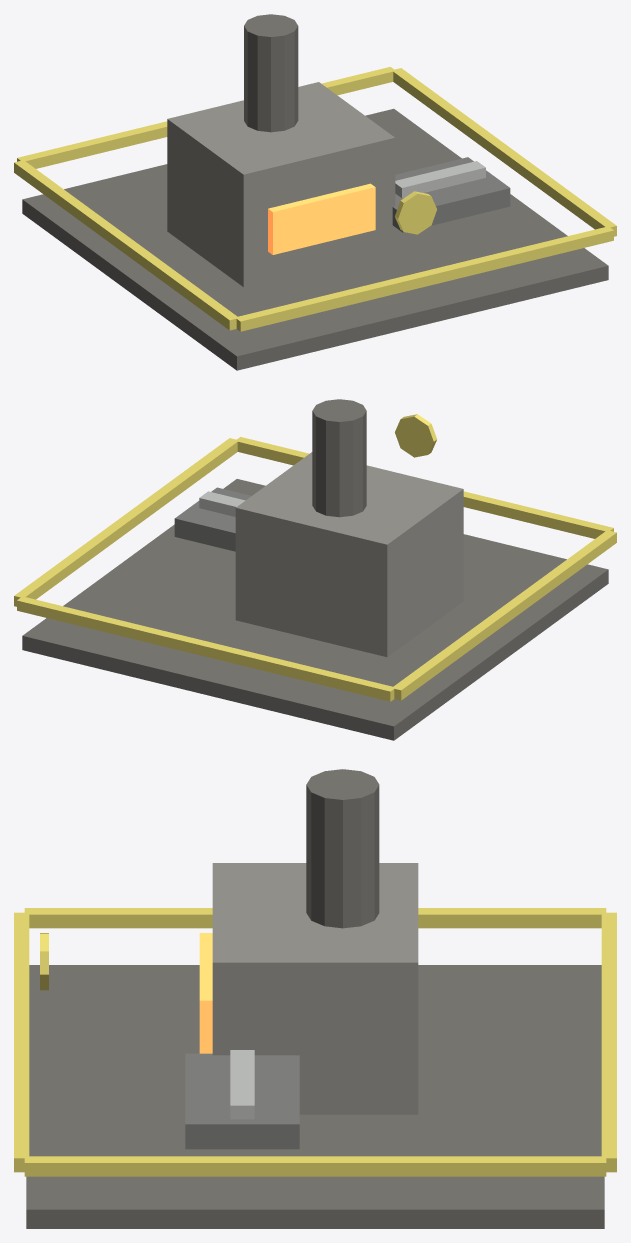
File: t7_smelter.glb
The picture shows the model from 3 angles, top to bottom: view 1: azimuth 30°, elevation 25°; view 2: azimuth 150°, elevation 25°; view 3: azimuth 270°, elevation 25°; orthographic projection. The views are drawn at different scales.
Visible parts, largest first — view 1: FootprintBase, FurnaceBody, Chimney, TierFrontTrim, HearthGlow, TierLeftTrim, TierRightTrim, TierBackTrim, IngotTray, TierEmblem, Ingot, Ingot.002; view 2: FootprintBase, FurnaceBody, Chimney, TierBackTrim, TierLeftTrim, TierRightTrim, TierFrontTrim, IngotTray, TierEmblem, Ingot.003; view 3: FootprintBase, FurnaceBody, TierRightTrim, Chimney, IngotTray, TierLeftTrim, TierFrontTrim, TierBackTrim, HearthGlow, Ingot.003.
Boxes of the visible parts, <box> form: FootprintBase: <box>22,108,608,370</box>; FurnaceBody: <box>167,82,395,287</box>; Chimney: <box>244,14,298,132</box>; TierFrontTrim: <box>235,226,613,331</box>; HearthGlow: <box>268,183,375,254</box>; TierLeftTrim: <box>14,160,237,330</box>; TierRightTrim: <box>393,68,616,236</box>; TierBackTrim: <box>17,67,395,168</box>; IngotTray: <box>392,157,510,232</box>; TierEmblem: <box>395,191,436,234</box>; Ingot: <box>395,174,433,198</box>; Ingot.002: <box>437,165,468,189</box>; FootprintBase: <box>22,479,608,740</box>; FurnaceBody: <box>235,452,463,657</box>; Chimney: <box>312,399,366,517</box>; TierBackTrim: <box>17,597,395,701</box>; TierLeftTrim: <box>393,531,616,700</box>; TierRightTrim: <box>14,438,237,606</box>; TierFrontTrim: <box>235,437,613,538</box>; IngotTray: <box>174,487,251,551</box>; TierEmblem: <box>395,414,437,457</box>; Ingot.003: <box>199,491,238,515</box>; FootprintBase: <box>26,965,604,1228</box>; FurnaceBody: <box>212,863,418,1114</box>; TierRightTrim: <box>24,1156,606,1176</box>; Chimney: <box>306,769,379,928</box>; IngotTray: <box>185,1053,299,1149</box>; TierLeftTrim: <box>24,908,606,928</box>; TierFrontTrim: <box>14,912,29,1172</box>; TierBackTrim: <box>601,912,616,1172</box>; HearthGlow: <box>199,933,212,1053</box>; Ingot.003: <box>230,1085,254,1119</box>.
Bounding box in the file's own units: 3.96 × 2.17 × 3.96.
